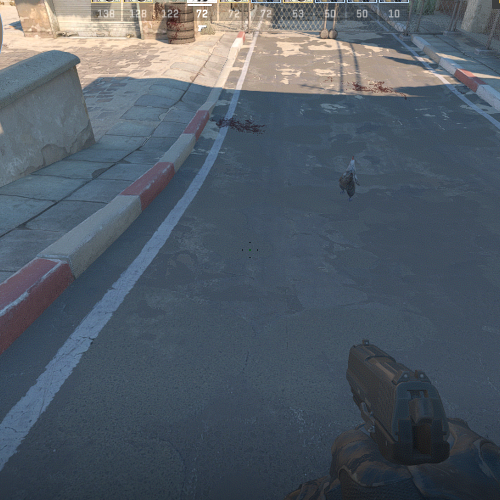chicken: (337, 156, 360, 201)
